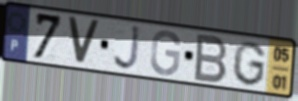7: (31, 11, 64, 61)
B: (192, 32, 230, 85)
G: (230, 40, 268, 88), (148, 28, 183, 77)
J: (112, 24, 142, 73)
V: (65, 14, 102, 67)
